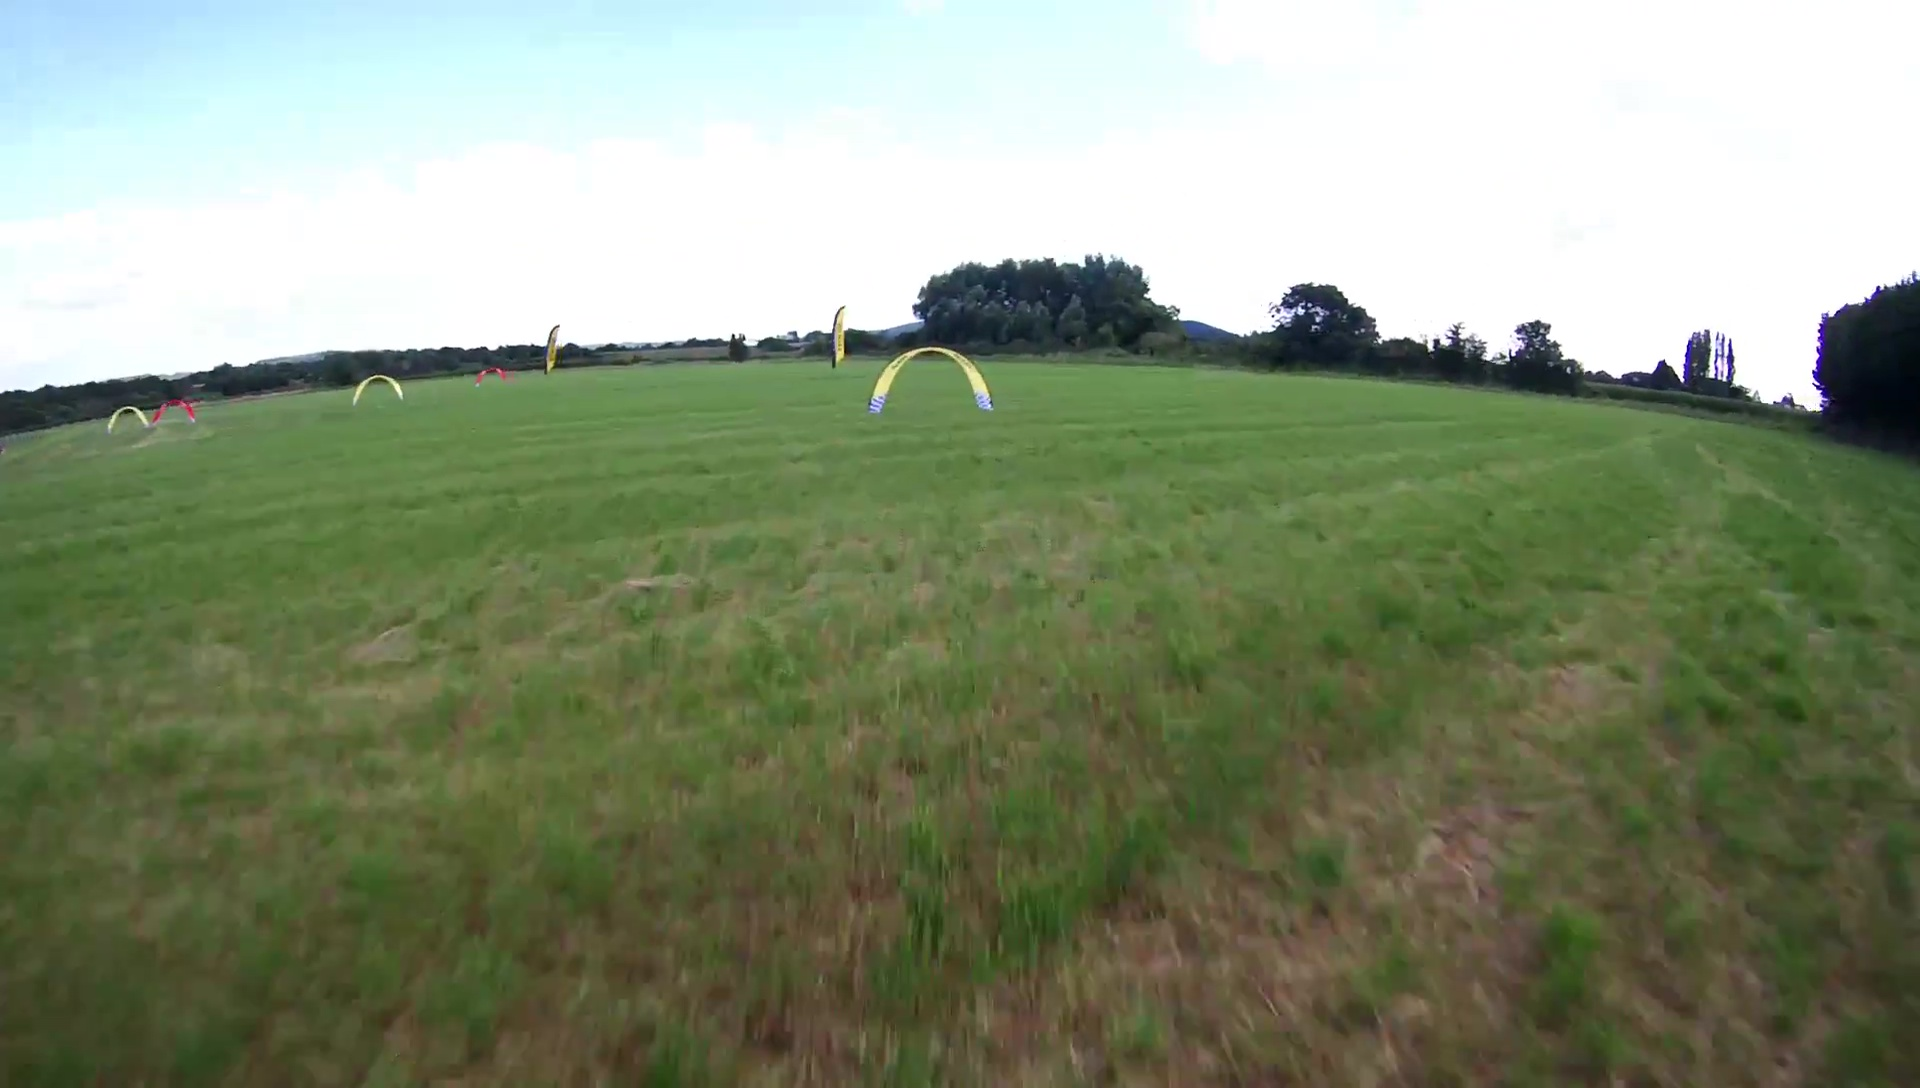gate: (865, 344, 994, 411), (351, 373, 407, 402), (152, 396, 199, 421), (104, 408, 152, 433), (472, 363, 512, 388)
